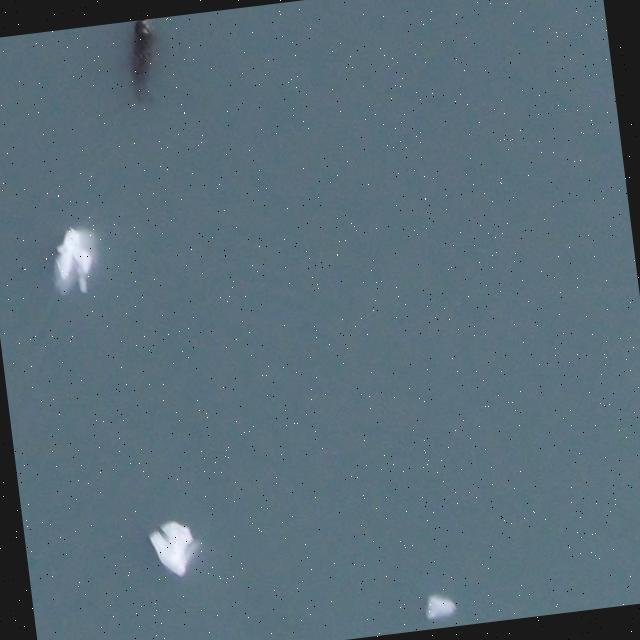seal: (122, 18, 159, 103)
